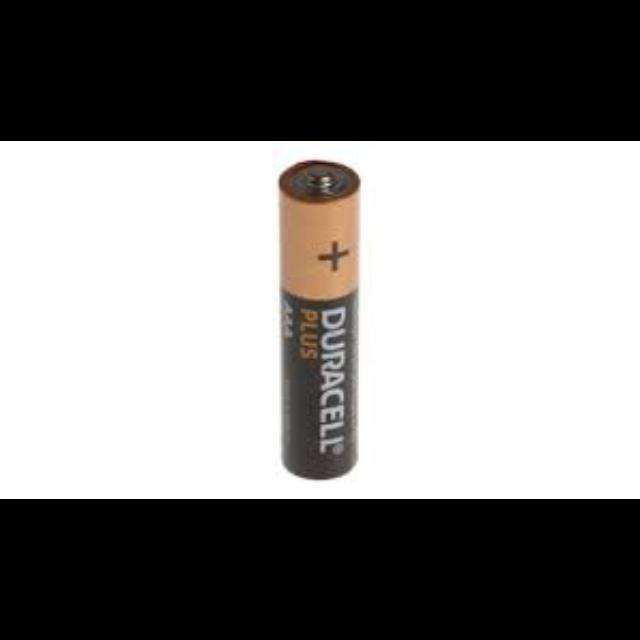Battery: (279, 160, 361, 480)
